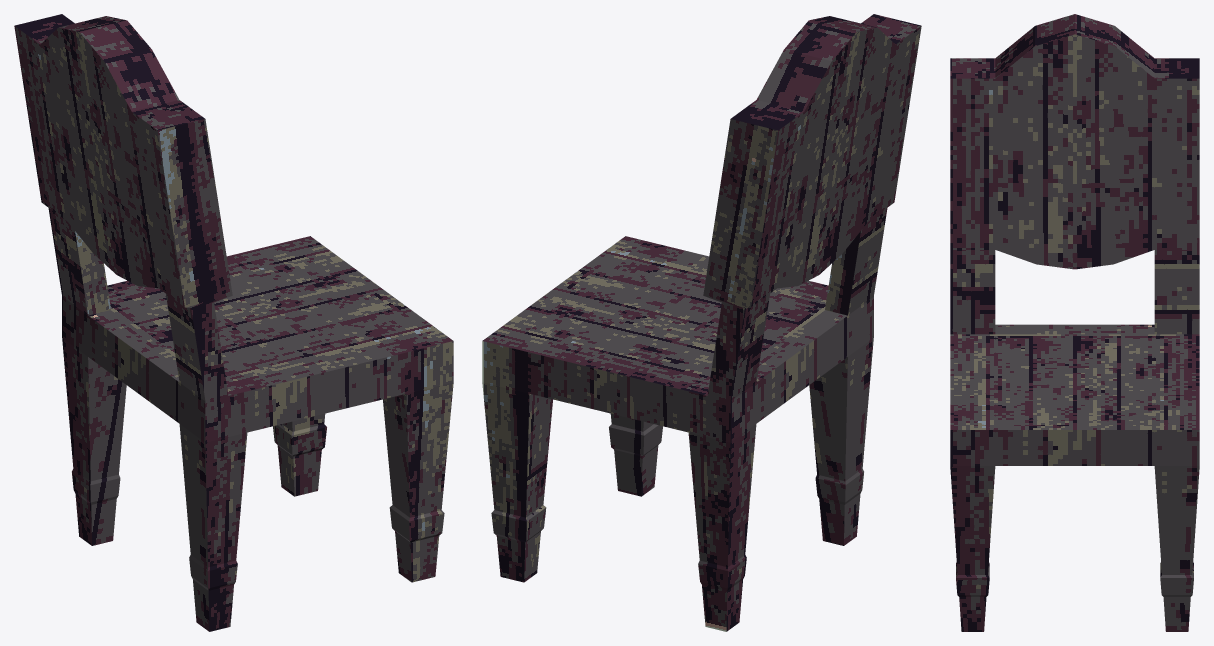
Rendered from chair.gltf.
3 renders of one model, left to right at view 1: azimuth 30°, elevation 25°; view 2: azimuth 150°, elevation 25°; view 3: azimuth 270°, elevation 25°, orthographic. The views are drawn at different scales.
Visible parts, largest first — view 1: chair; view 2: chair; view 3: chair.
Boxes of the visible parts, bbox=[...] form: chair: bbox=[14, 14, 453, 631]; chair: bbox=[482, 14, 921, 631]; chair: bbox=[950, 14, 1199, 631].
Size of the model in its own units: 0.838 by 1.5 by 0.6873.
Materials: 1 (1 with a texture image).
